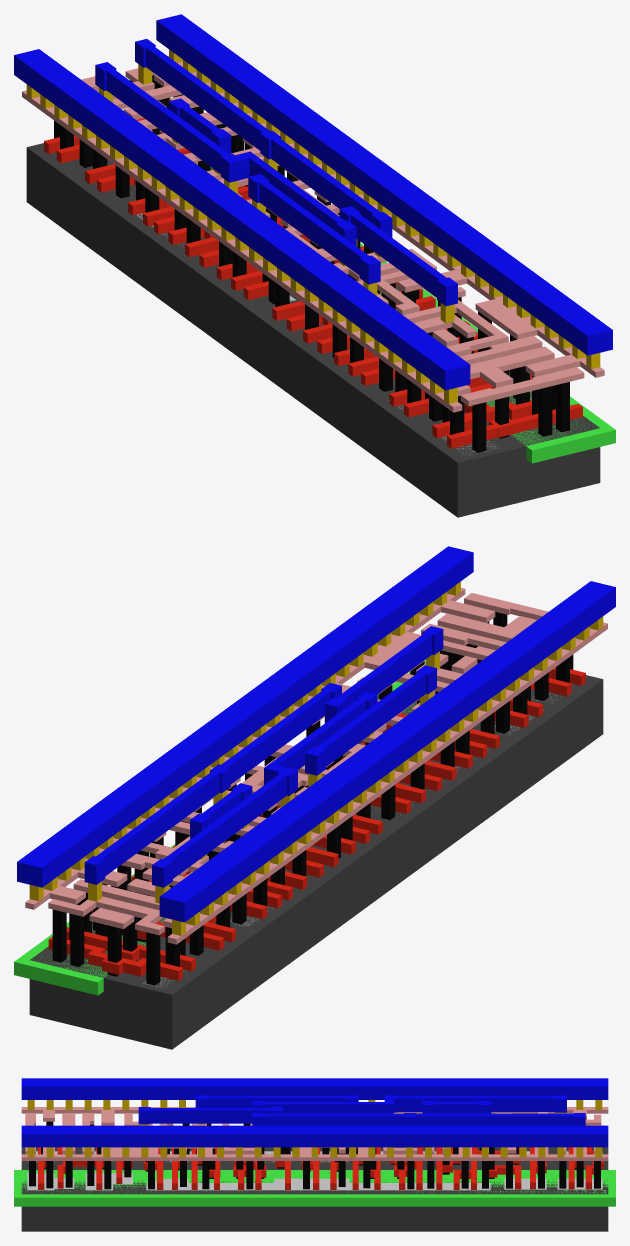
File: sky130_fd_sc_hd__sdfbbp_1.obj
3 views of the same model, one above another, from view 1: azimuth 30°, elevation 25°; view 2: azimuth 150°, elevation 25°; view 3: azimuth 270°, elevation 25° (orthographic). The views are drawn at different scales.
Visible parts, largest first — view 1: metal1, subs, li, poly, licon, mcon, nwell; view 2: metal1, subs, li, licon, poly, mcon, nwell; view 3: metal1, subs, nwell, li, poly, licon, mcon, tap.
Part boxes in pixels (<box>): metal1: <box>14,14,612,390</box>; subs: <box>26,143,600,517</box>; li: <box>22,55,604,412</box>; poly: <box>44,118,582,448</box>; licon: <box>54,75,569,452</box>; mcon: <box>26,49,600,403</box>; nwell: <box>210,167,615,463</box>; metal1: <box>17,546,615,922</box>; subs: <box>29,675,603,1049</box>; li: <box>25,587,607,944</box>; licon: <box>52,612,573,985</box>; poly: <box>48,661,585,980</box>; mcon: <box>29,581,603,935</box>; nwell: <box>14,660,425,995</box>; metal1: <box>21,1078,608,1147</box>; subs: <box>21,1147,608,1231</box>; nwell: <box>14,1170,615,1206</box>; li: <box>21,1107,608,1160</box>; poly: <box>37,1147,603,1189</box>; licon: <box>29,1121,601,1189</box>; mcon: <box>27,1100,602,1157</box>; tap: <box>27,1173,602,1190</box>.
Size of the model in its own units: 3.2 by 2.74 by 14.64.
